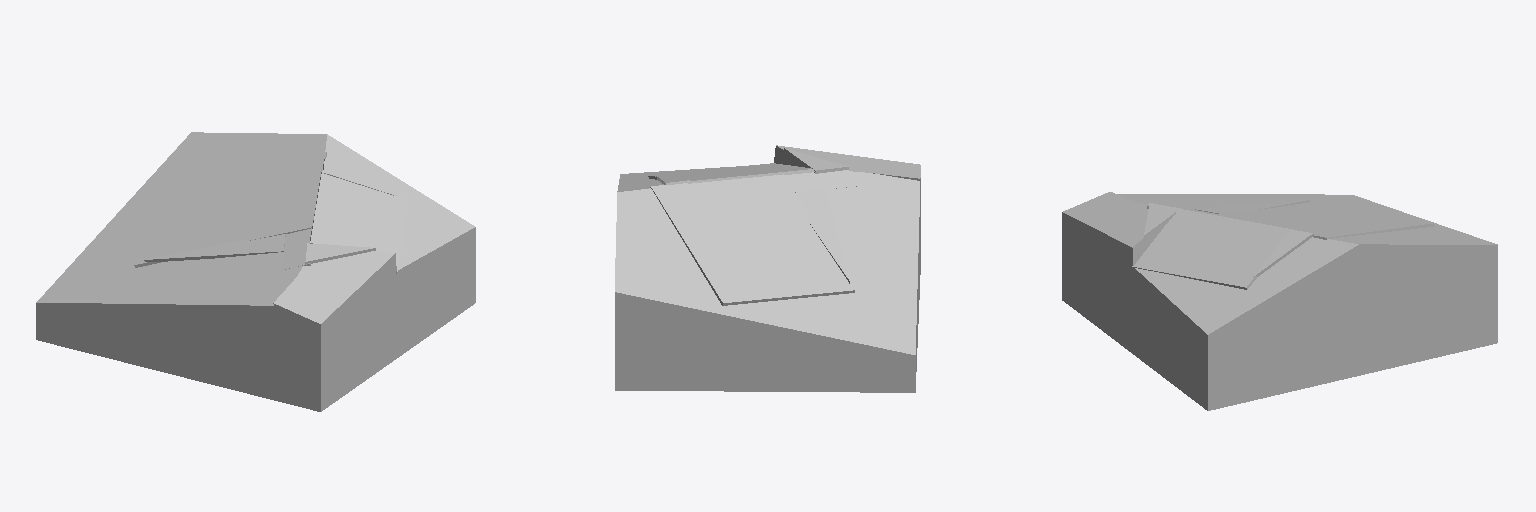
Rendered from rock.obj.
The picture shows the model from 3 angles: view 1: azimuth 30°, elevation 25°; view 2: azimuth 150°, elevation 25°; view 3: azimuth 270°, elevation 25°; orthographic projection.
Visible parts, largest first — view 1: Union1, Part3, Part2, Wedge2, Part1, Wedge1, Wedge3; view 2: Union1, Part3, Wedge2, Part2, Part1, Wedge1; view 3: Union1, Part2, Part3, Wedge3, Wedge1, Wedge2.
Part boxes in pixels (bbox=[...]): Union1: bbox=[36, 132, 475, 411]; Part3: bbox=[134, 152, 326, 267]; Part2: bbox=[310, 171, 408, 273]; Wedge2: bbox=[144, 234, 285, 261]; Part1: bbox=[281, 228, 311, 269]; Wedge1: bbox=[305, 243, 375, 264]; Wedge3: bbox=[323, 159, 393, 195]; Union1: bbox=[615, 145, 920, 392]; Part3: bbox=[650, 174, 854, 305]; Wedge2: bbox=[796, 189, 849, 283]; Part2: bbox=[648, 163, 814, 183]; Part1: bbox=[785, 170, 857, 192]; Wedge1: bbox=[784, 148, 848, 173]; Union1: bbox=[1062, 192, 1497, 410]; Part2: bbox=[1132, 209, 1292, 289]; Part3: bbox=[1216, 201, 1433, 239]; Wedge3: bbox=[1253, 229, 1313, 277]; Wedge1: bbox=[1144, 203, 1180, 238]; Wedge2: bbox=[1195, 200, 1309, 213].
Size of the model in its own units: 12.4 by 4.24 by 12.75.